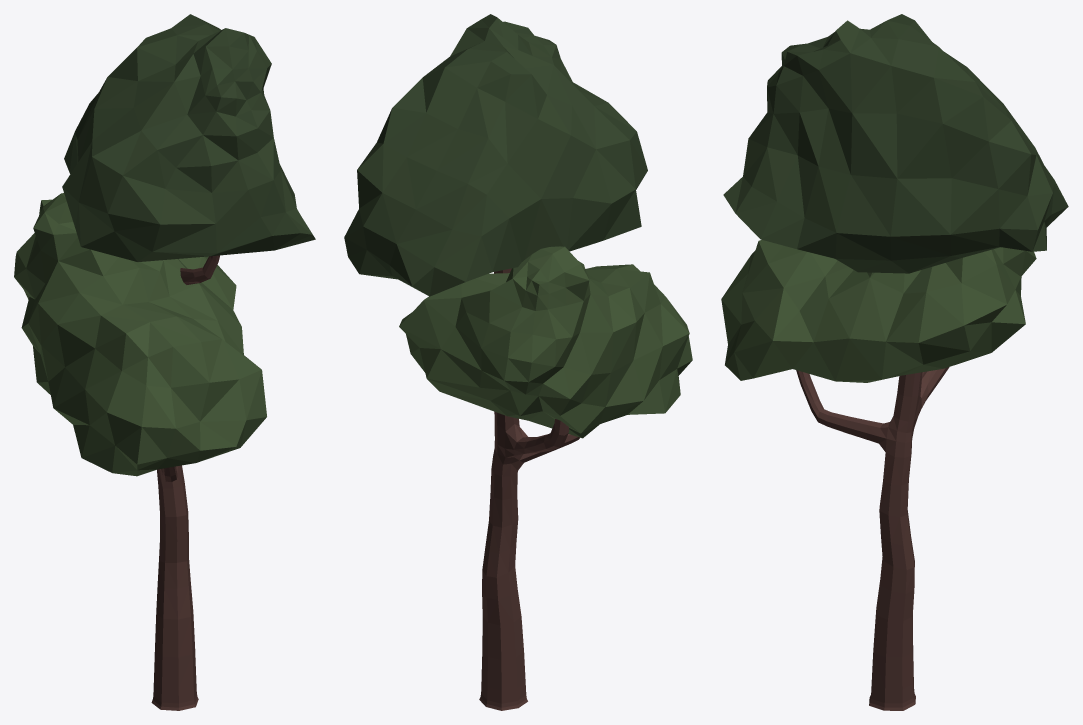
File: CommonTree_3.glb
The picture shows the model from 3 angles, left to right: view 1: azimuth 30°, elevation 25°; view 2: azimuth 150°, elevation 25°; view 3: azimuth 270°, elevation 25°; orthographic projection. The views are drawn at different scales.
Visible parts, largest first — view 1: CommonTree_3; view 2: CommonTree_3; view 3: CommonTree_3.
Part boxes in pixels (x1,y1,x2,y2): CommonTree_3: (14, 14, 315, 710); CommonTree_3: (344, 14, 692, 710); CommonTree_3: (721, 14, 1068, 710).
Size of the model in its own units: 1.28 by 3.46 by 1.56.
